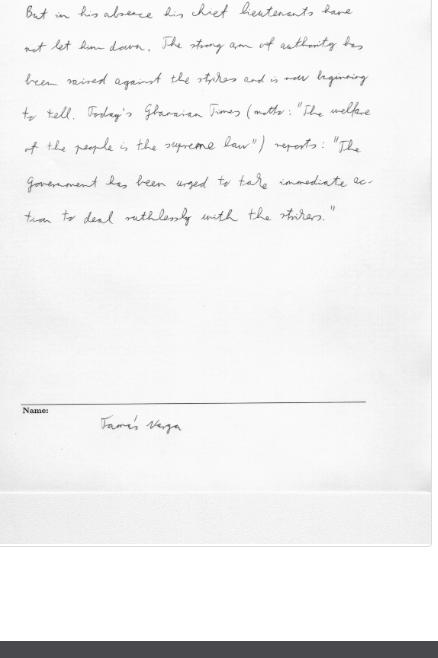text: (20, 99, 374, 125), (25, 170, 376, 196), (22, 132, 363, 158), (21, 32, 363, 56), (23, 67, 371, 90), (23, 203, 337, 228), (22, 0, 355, 22), (97, 409, 183, 437), (19, 404, 50, 415)
